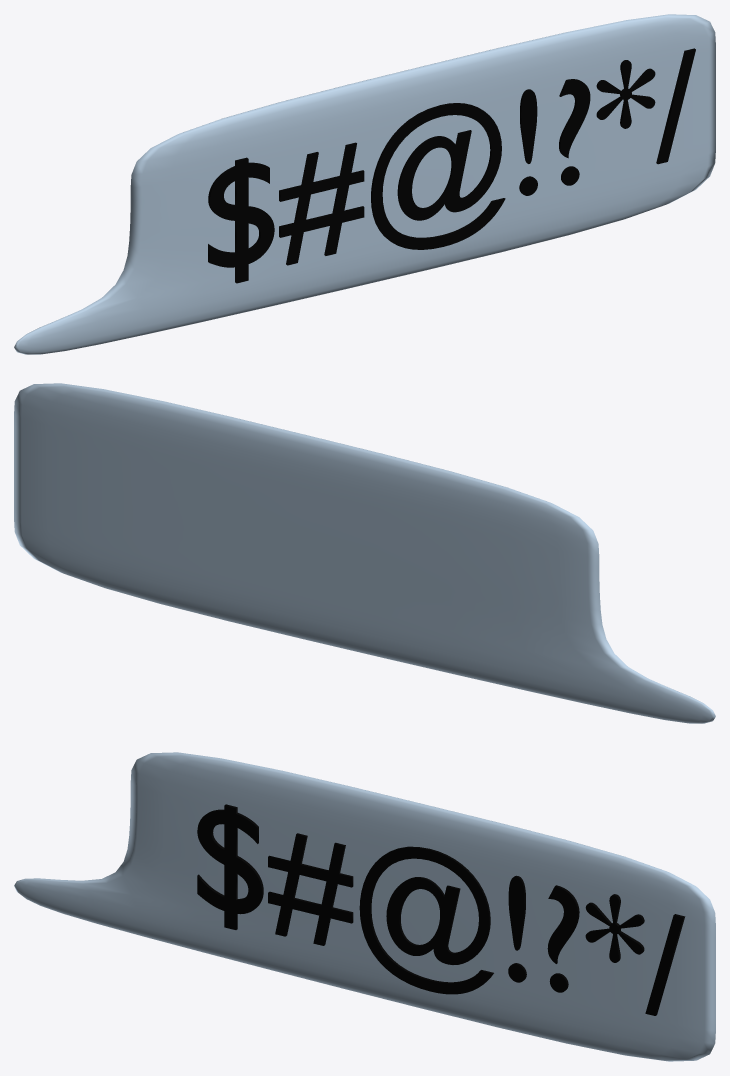
File: foshnamoos.fbx
3 views of the same model, one above another, from view 1: azimuth 30°, elevation 25°; view 2: azimuth 150°, elevation 25°; view 3: azimuth 330°, elevation 25° (orthographic).
Visible parts, largest first — view 1: Cube, Text; view 2: Cube; view 3: Cube, Text.
Part boxes in pixels (x1,y1,x2,y2): Cube: (14, 14, 715, 354); Text: (208, 48, 695, 283); Cube: (14, 383, 715, 723); Cube: (14, 752, 715, 1061); Text: (197, 804, 685, 1015).
Size of the model in its own units: 380 by 106 by 10.54.
